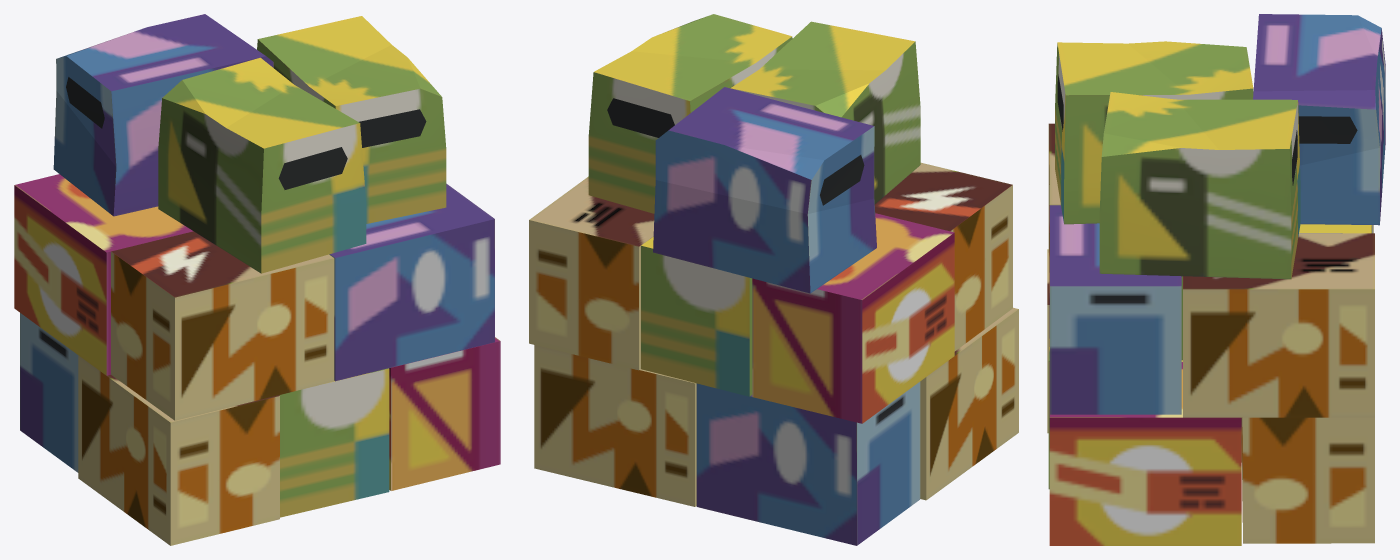
File: SM_Prop_Box_Stack_04.obj
The picture shows the model from 3 angles, left to right: view 1: azimuth 30°, elevation 25°; view 2: azimuth 150°, elevation 25°; view 3: azimuth 270°, elevation 25°; orthographic projection. The views are drawn at different scales.
Visible parts, largest first — view 1: SM_Prop_Box_Stack_04_0; view 2: SM_Prop_Box_Stack_04_0; view 3: SM_Prop_Box_Stack_04_0.
Part boxes in pixels (x1,y1,x2,y2): SM_Prop_Box_Stack_04_0: [14, 14, 500, 545]; SM_Prop_Box_Stack_04_0: [529, 14, 1018, 545]; SM_Prop_Box_Stack_04_0: [1047, 14, 1385, 545].
Size of the model in its own units: 0.9697 by 1.03 by 0.8233.
1 material, 1 textured.
